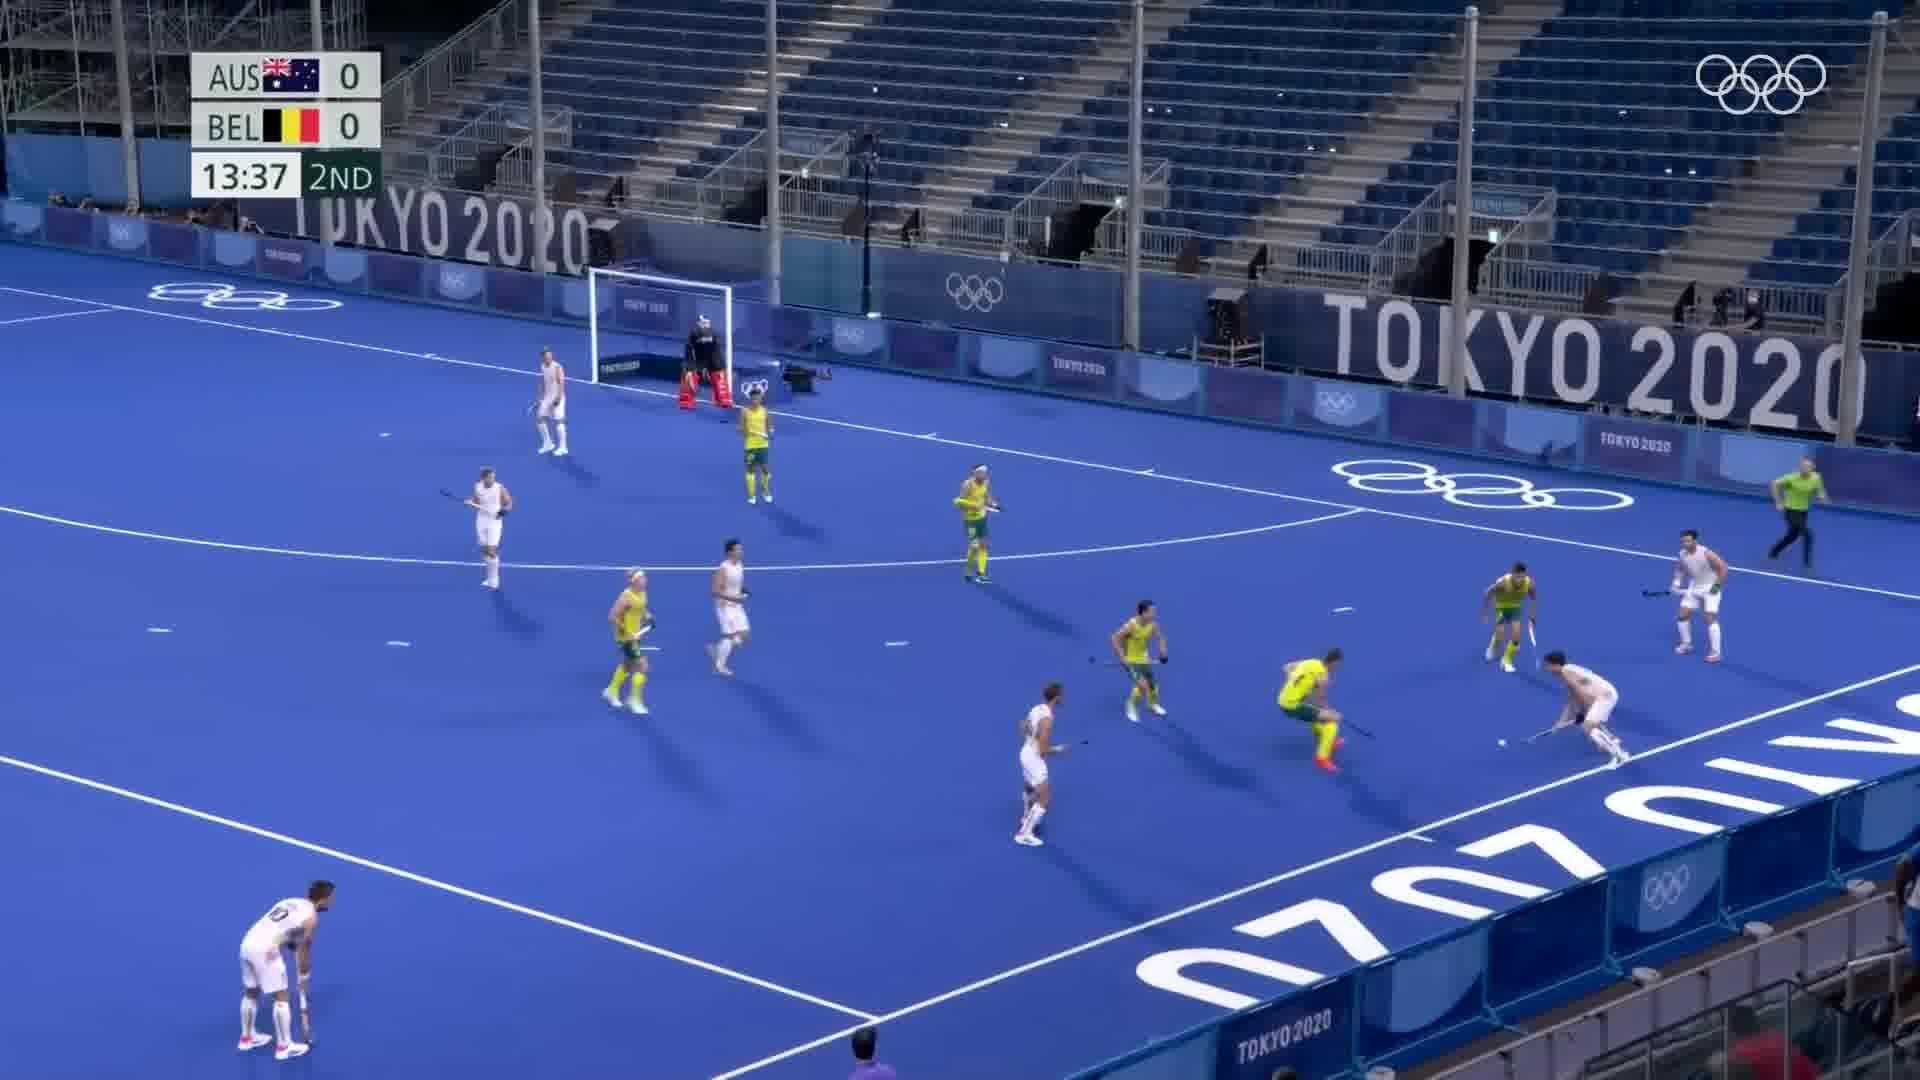ball: (1491, 730, 1512, 751)
